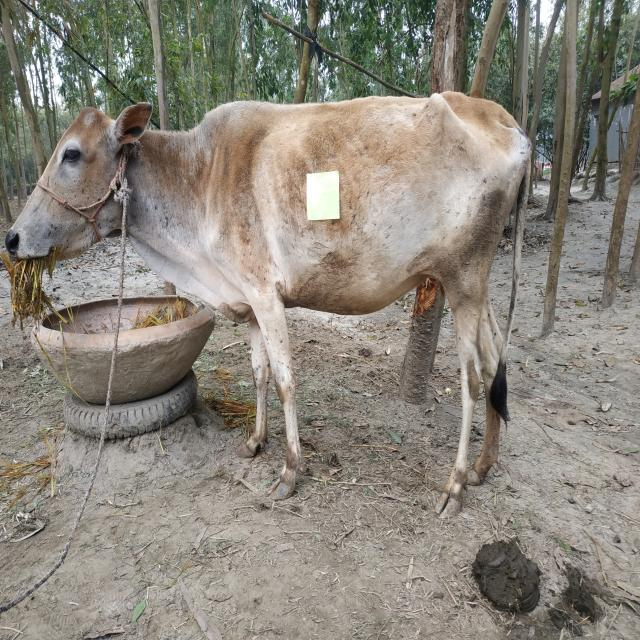badan_sapi: (250, 102, 504, 318)
sapi: (7, 84, 536, 524)
